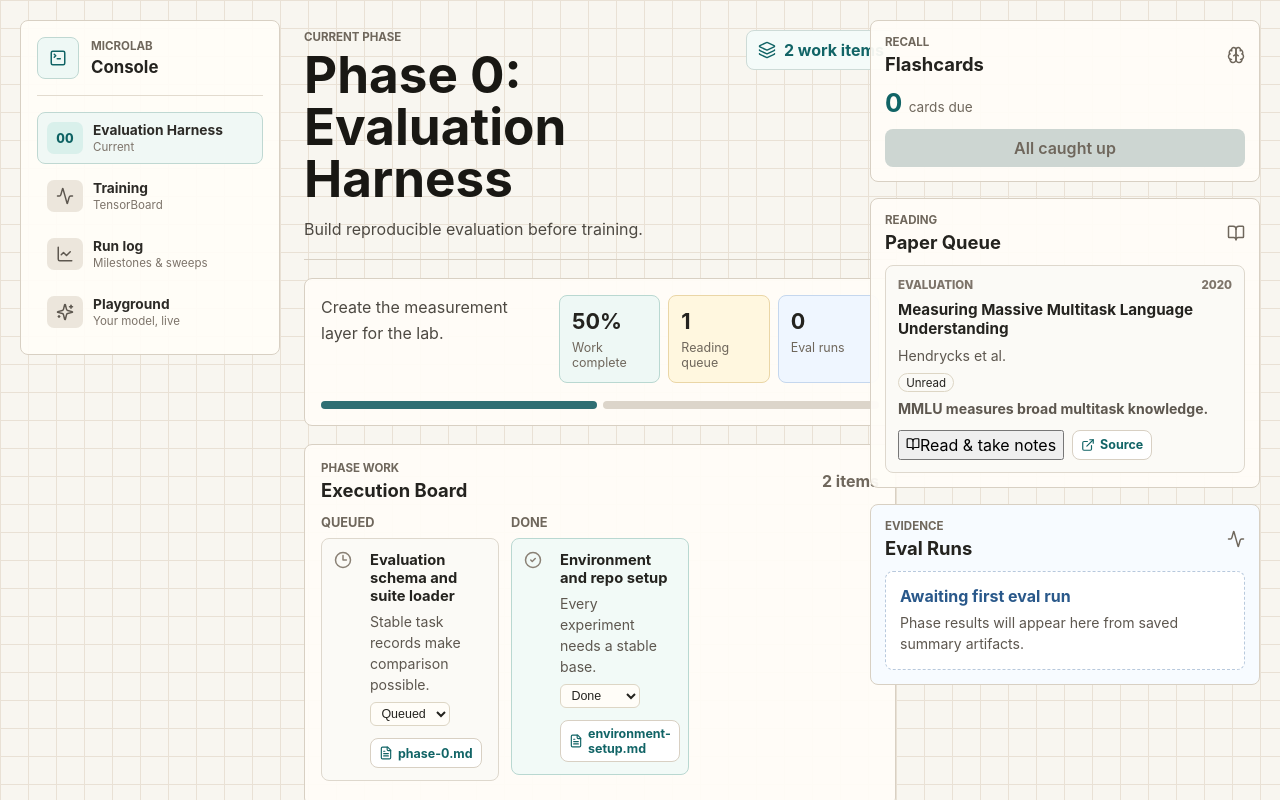
App › opens markdown links in a rendered document viewer
Click the link "environment-setup.md".
click(620, 741)  # box x1=560 y1=720 x2=680 y2=762
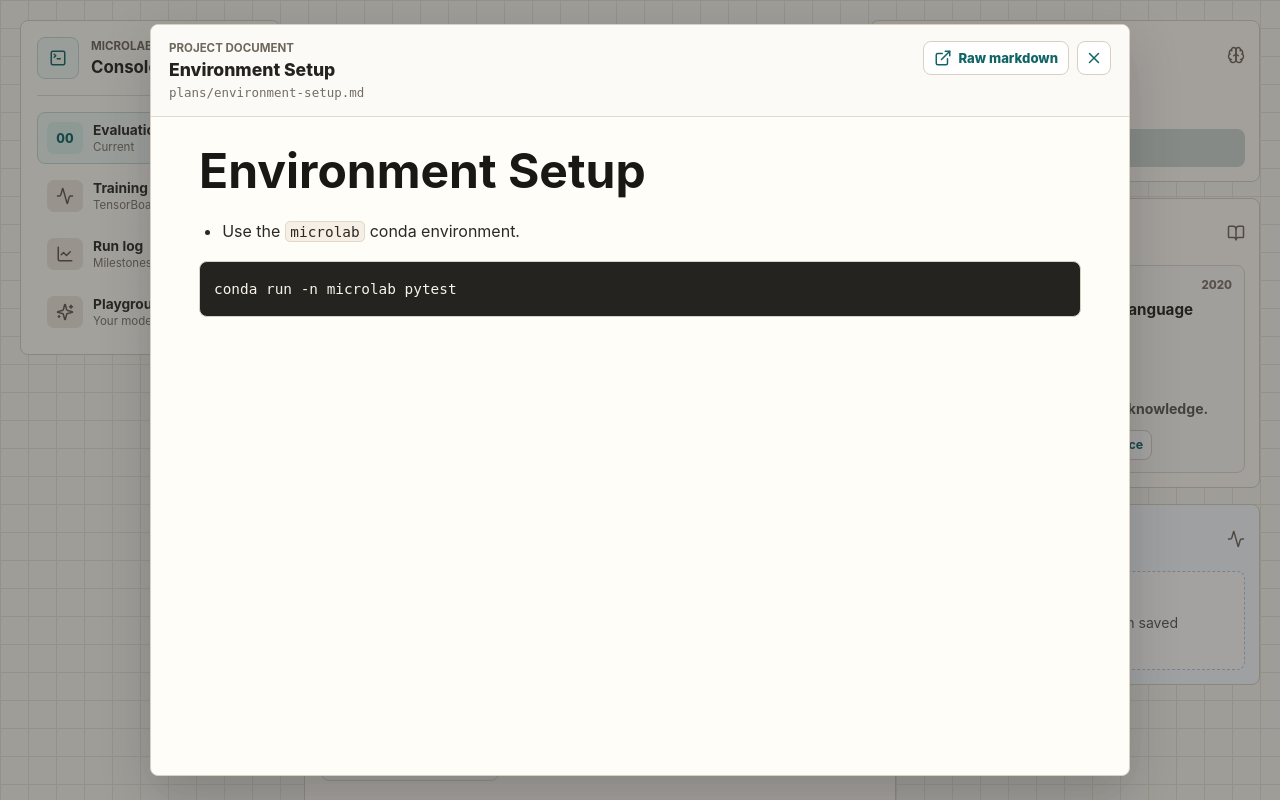
expect the heading "Environment Setup" is shown: met, box x1=199 y1=141 x2=646 y2=200
expect the list item "Use the microlab conda environment." is shown: met, box x1=222 y1=221 x2=520 y2=242
expect the text "microlab" is shown: met, box x1=285 y1=221 x2=365 y2=242
